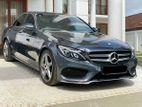car: (0, 9, 140, 100)
